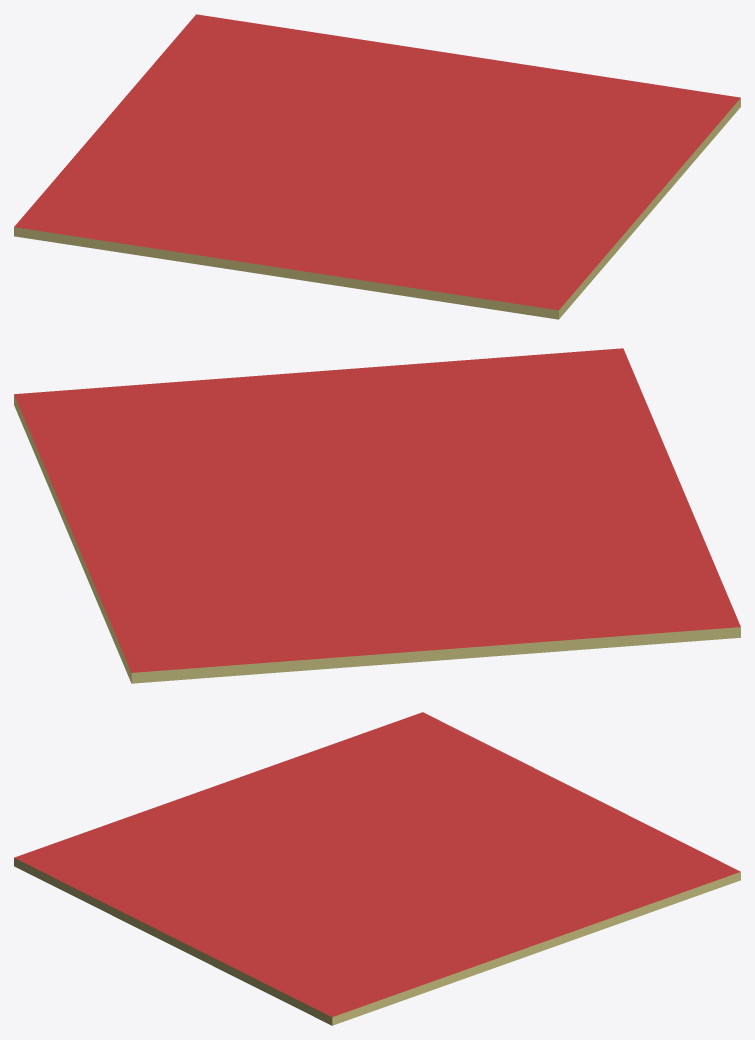
3 views of the same model, one above another, from view 1: azimuth 30°, elevation 25°; view 2: azimuth 150°, elevation 25°; view 3: azimuth 270°, elevation 25° (orthographic). The views are drawn at different scales.
Size of the model in its own units: 7.63 by 7.68 by 0.1.
